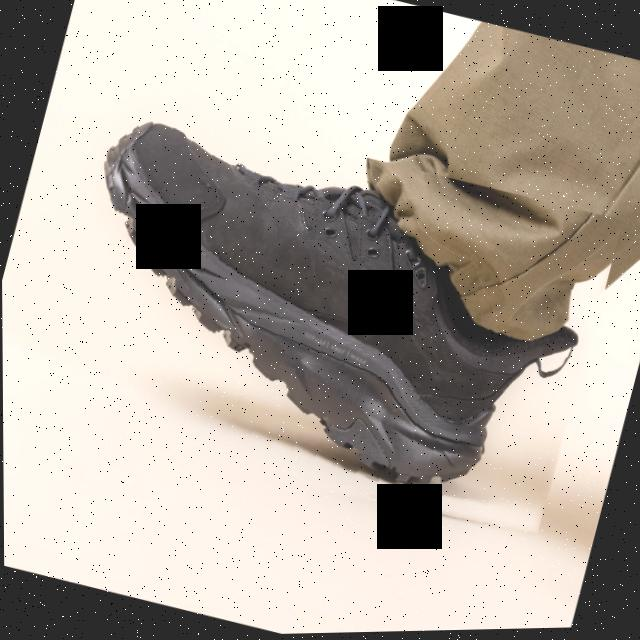shoe: (83, 106, 591, 512)
